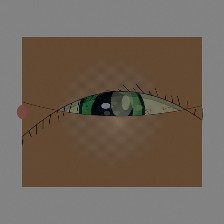corneal_ulcer: (96, 82, 147, 123)
